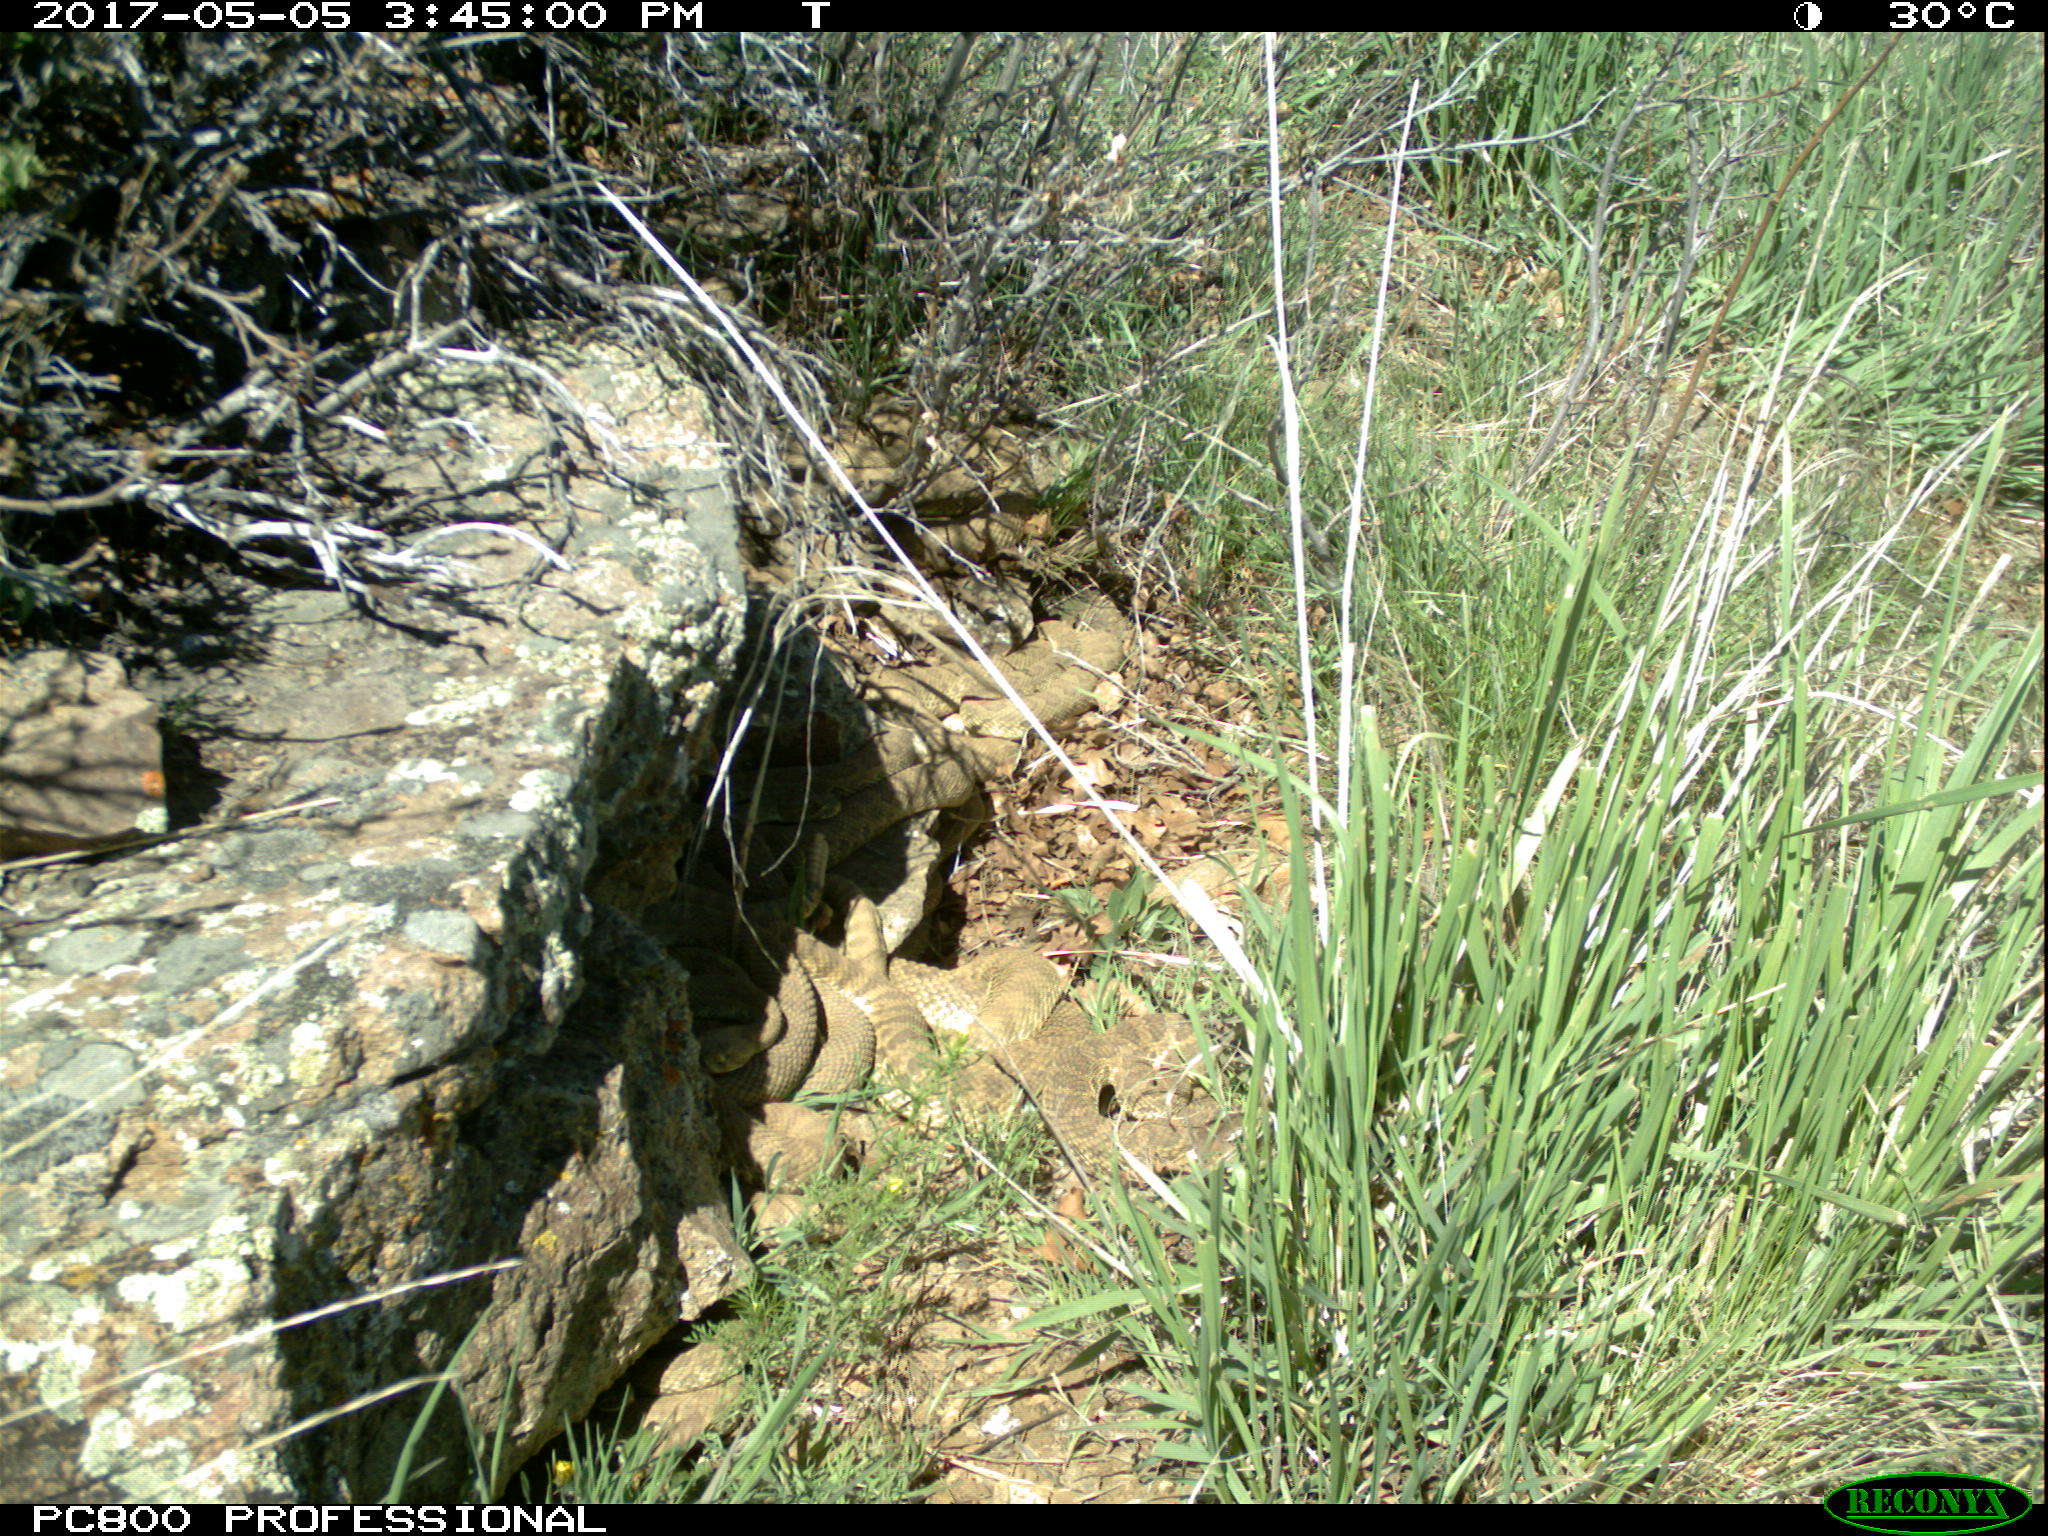snake: (669, 891, 953, 1176), (958, 947, 1263, 1184), (858, 597, 1124, 802), (631, 1331, 763, 1454)
